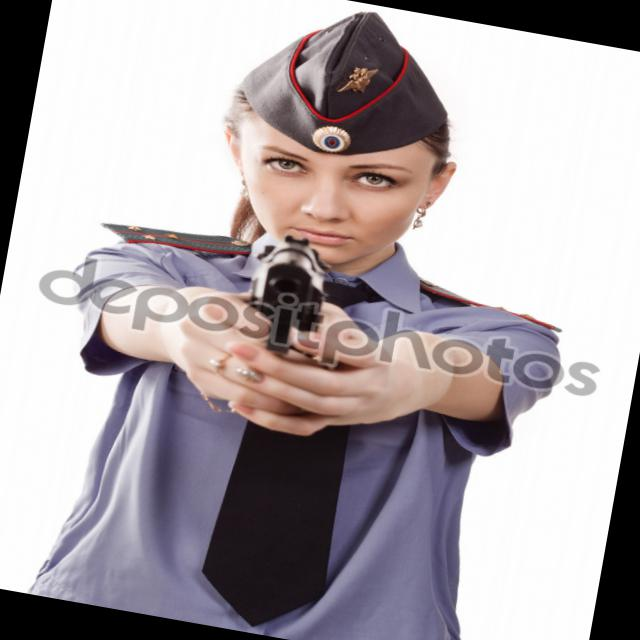handgun: (218, 224, 344, 362)
